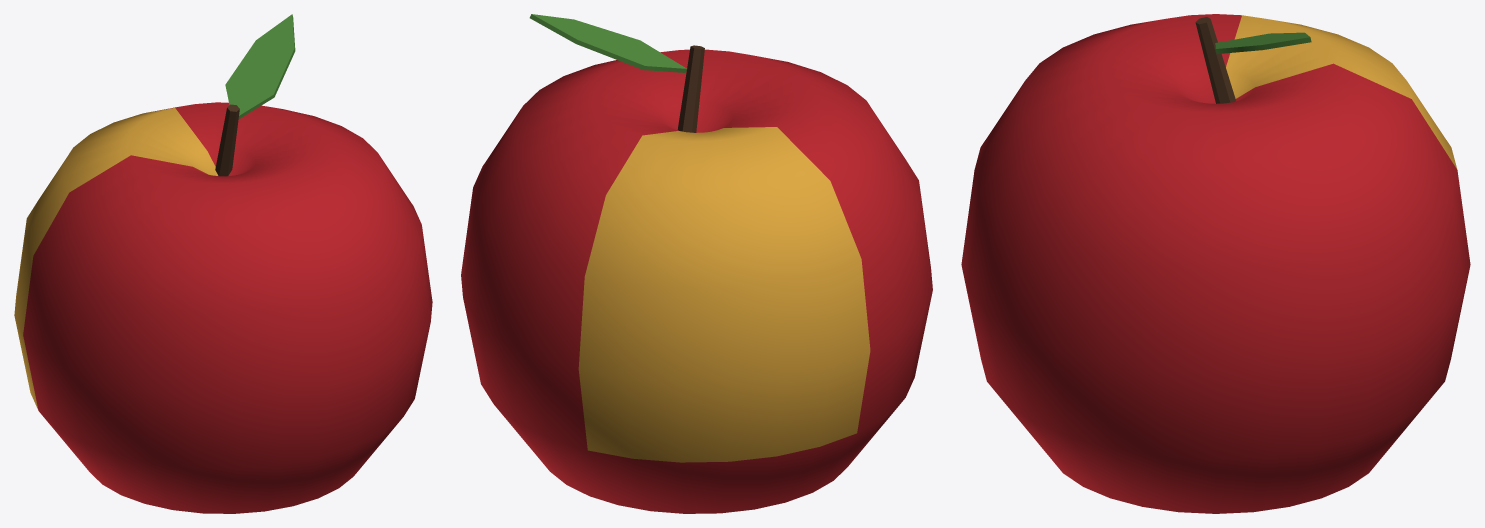
The model's file is apple.glb.
3 views of the same model, side by side, from view 1: azimuth 30°, elevation 25°; view 2: azimuth 150°, elevation 25°; view 3: azimuth 270°, elevation 25° (orthographic). The views are drawn at different scales.
Visible parts, largest first — view 1: apple; view 2: apple; view 3: apple.
Part boxes in pixels (bbox=[...]): apple: bbox=[14, 14, 432, 513]; apple: bbox=[461, 14, 932, 513]; apple: bbox=[961, 14, 1470, 513].
Size of the model in its own units: 0.0778 by 0.085 by 0.0778.
